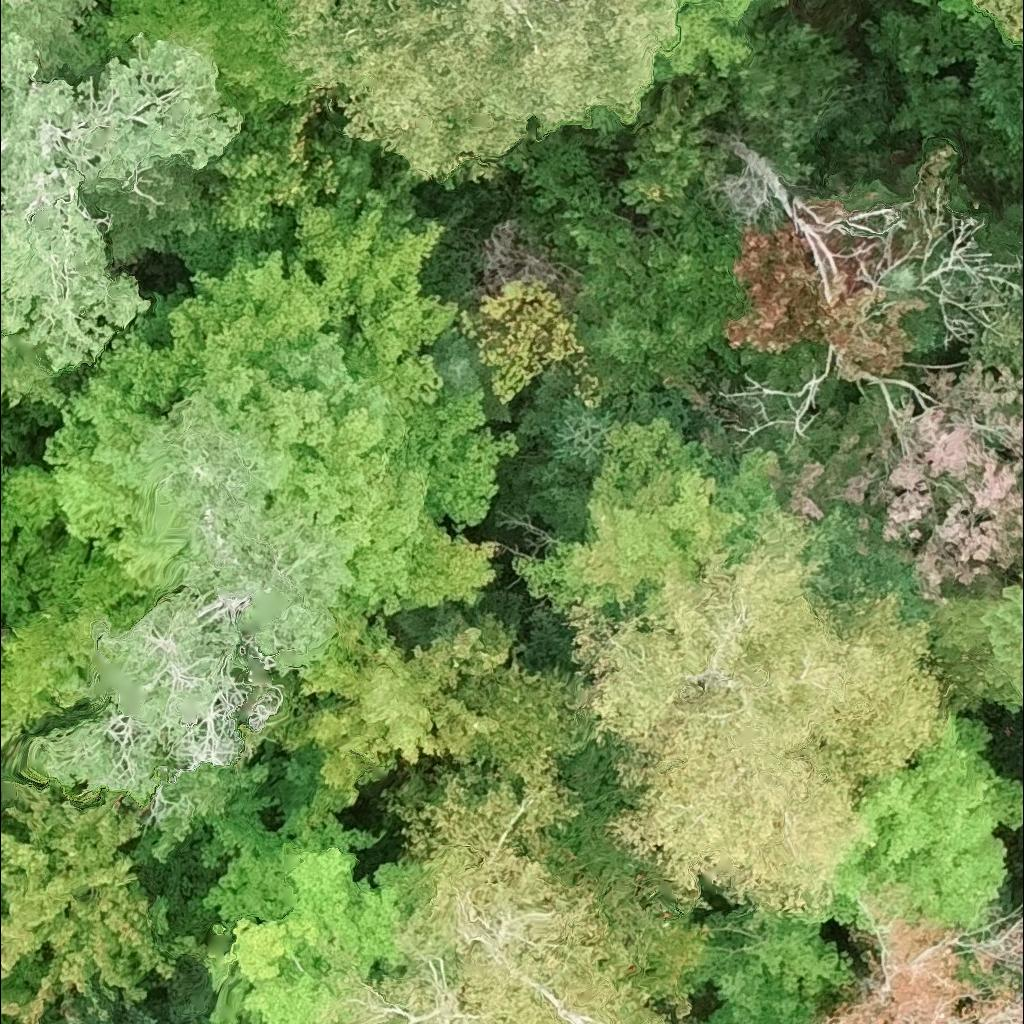crown: (35, 239, 502, 616), (567, 513, 956, 920), (318, 760, 716, 1023), (0, 34, 241, 374), (282, 0, 686, 194), (507, 415, 787, 624), (189, 802, 432, 1023), (0, 774, 205, 1022), (838, 352, 1023, 605), (819, 707, 1023, 933), (726, 224, 917, 381), (809, 883, 1023, 1023), (572, 204, 744, 365), (285, 188, 442, 328), (689, 901, 856, 1023), (519, 369, 699, 476), (405, 384, 518, 535), (463, 657, 589, 781), (925, 566, 1023, 711), (339, 290, 460, 407), (432, 322, 515, 430), (0, 0, 101, 72), (502, 449, 588, 521), (42, 983, 174, 1023), (971, 0, 1023, 51), (682, 0, 770, 23), (908, 0, 989, 24), (1023, 247, 1023, 254)
